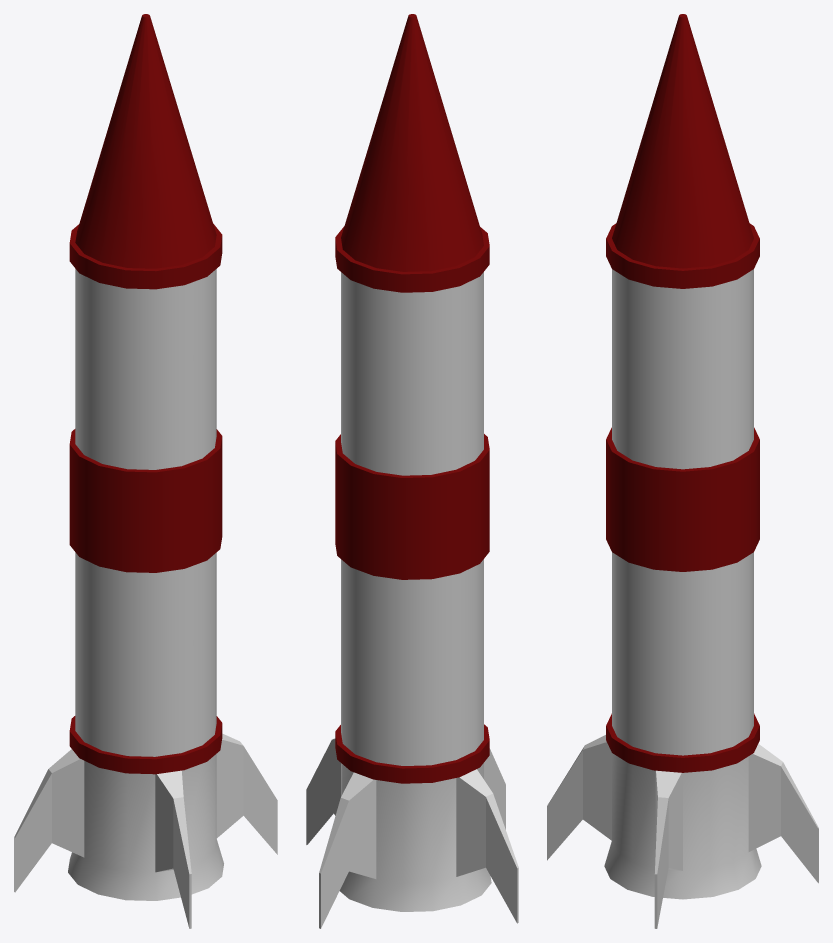
The model's file is RocketComplete.FBX.
The picture shows the model from 3 angles, left to right: view 1: azimuth 30°, elevation 25°; view 2: azimuth 150°, elevation 25°; view 3: azimuth 270°, elevation 25°; orthographic projection.
Visible parts, largest first — view 1: Cylinder001; view 2: Cylinder001; view 3: Cylinder001.
Boxes of the visible parts, x1,y1,x2,y2 form: Cylinder001: [14, 14, 277, 928]; Cylinder001: [306, 14, 518, 928]; Cylinder001: [547, 14, 818, 928].
Size of the model in its own units: 7.13 by 24.76 by 7.13.
